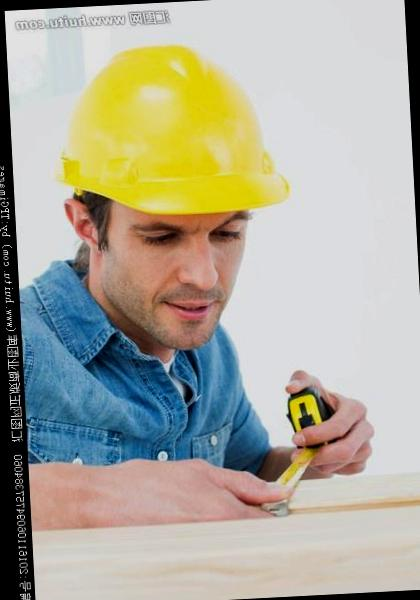helmet: (46, 27, 300, 221)
no_vest: (13, 253, 255, 465)
person: (6, 28, 383, 524)
